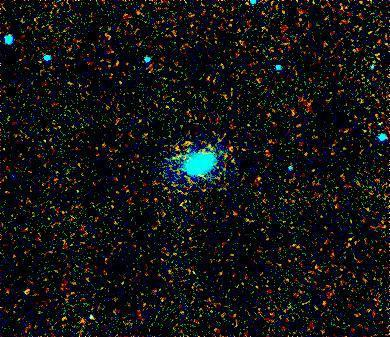star: (8, 280, 38, 310)
